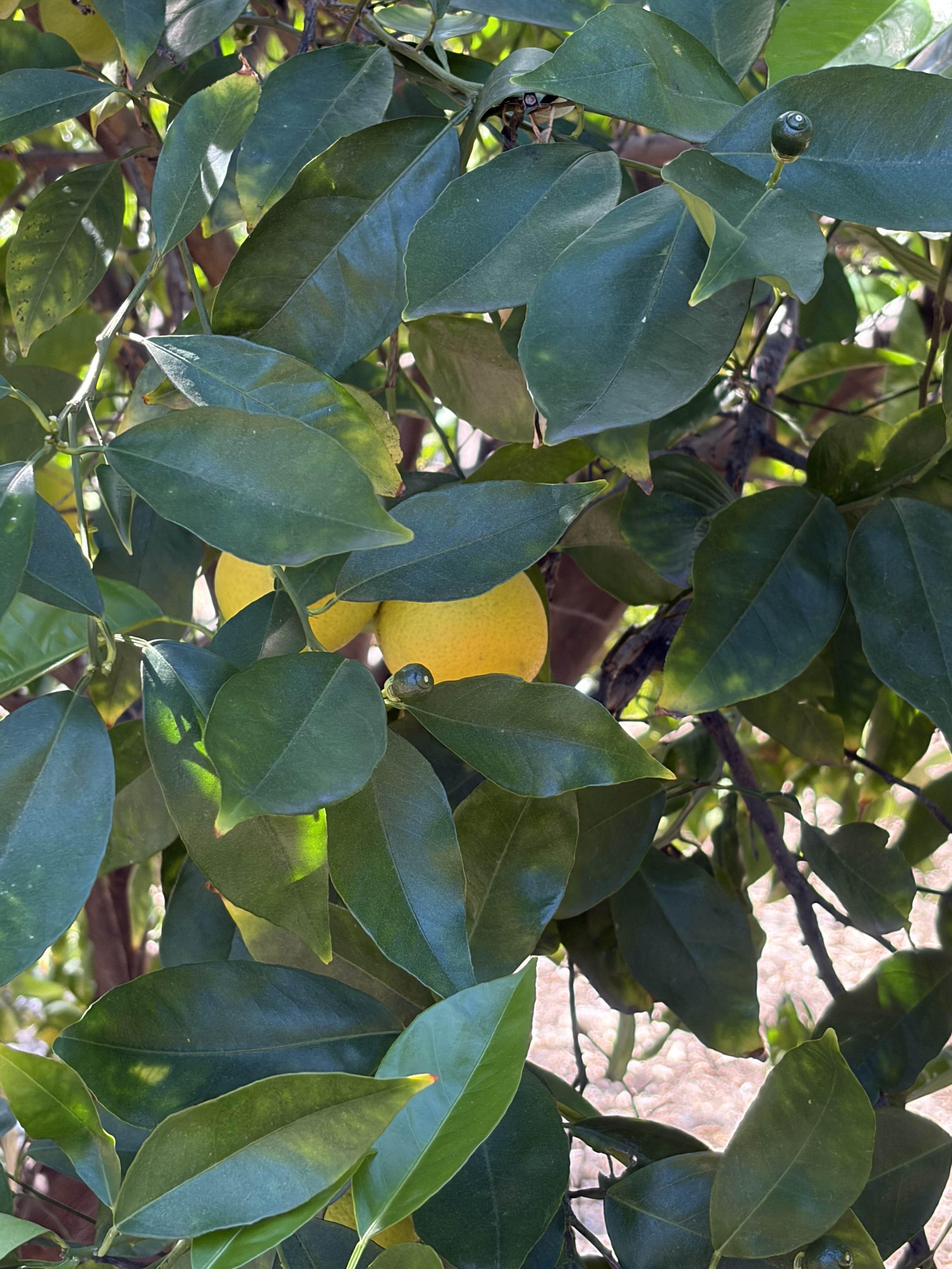orange: (375, 573, 548, 682), (212, 552, 385, 650), (33, 448, 104, 532), (322, 1195, 425, 1252), (39, 0, 118, 63)
